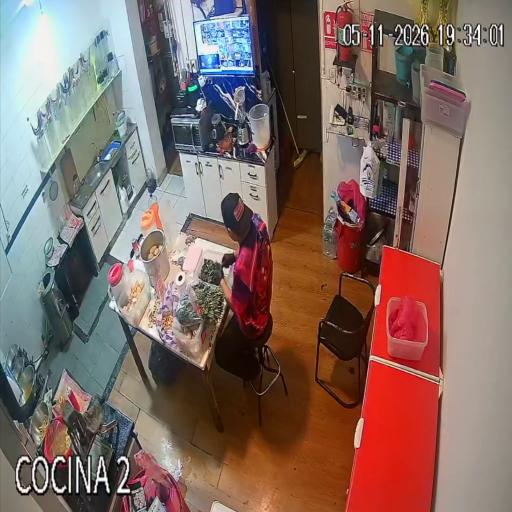Balde: (248, 103, 271, 150)
Envase Ketchup: (67, 389, 79, 411)
Envase Llajua: (59, 395, 66, 411)
Jarra1: (108, 263, 125, 299)
Jarra2: (141, 208, 157, 236)
Jarra3: (158, 192, 179, 247)
JarraLicuadora: (73, 174, 80, 194)
Microondas: (171, 106, 211, 151)
Persona1: (217, 192, 273, 380)
Taper: (194, 249, 233, 286)
Taper2: (172, 319, 209, 364)
Taper3: (115, 270, 151, 325)
Taper4: (386, 301, 428, 360), (387, 297, 399, 320)
olla1: (141, 230, 170, 279)
